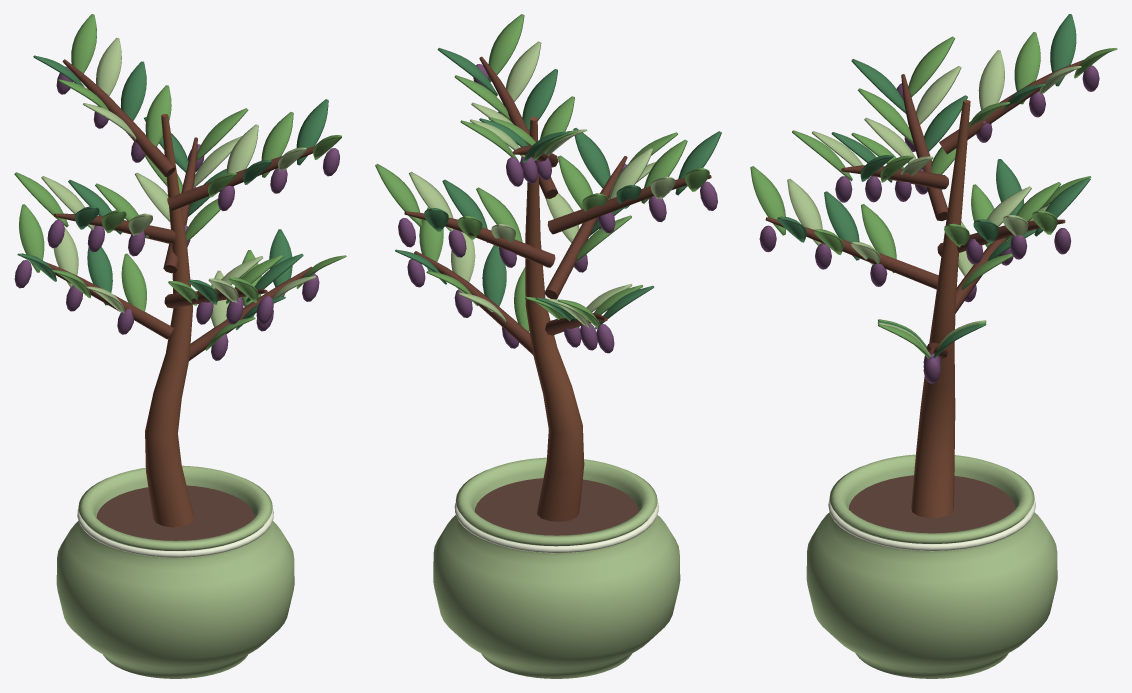
Rendered from atelier_olive.glb.
3 views of the same model, side by side, from view 1: azimuth 30°, elevation 25°; view 2: azimuth 150°, elevation 25°; view 3: azimuth 270°, elevation 25° (orthographic). The views are drawn at different scales.
Parts seen in each view (by area): view 1: Olivito en maceta; view 2: Olivito en maceta; view 3: Olivito en maceta.
Part boxes in pixels (x1=…): Olivito en maceta: x1=14, y1=14, x2=346, y2=678; Olivito en maceta: x1=375, y1=14, x2=721, y2=678; Olivito en maceta: x1=750, y1=14, x2=1117, y2=678.
Size of the model in its own units: 0.7616 by 1.39 by 0.7724.
